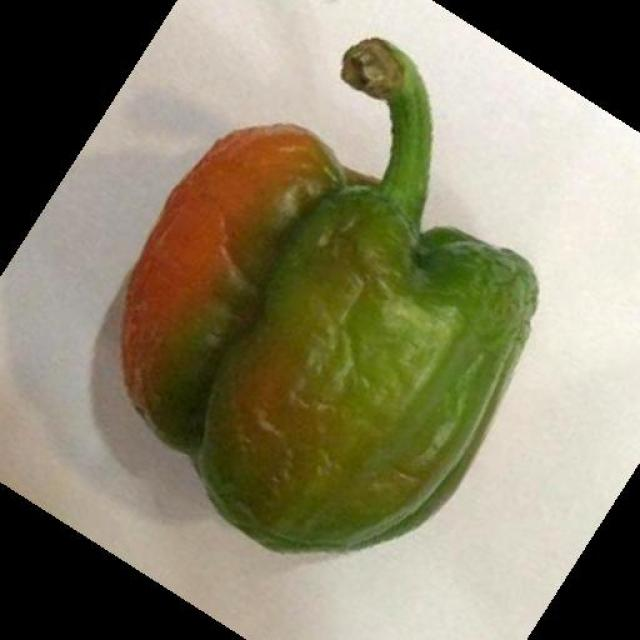Stale_Capsicum: (105, 79, 532, 558)
